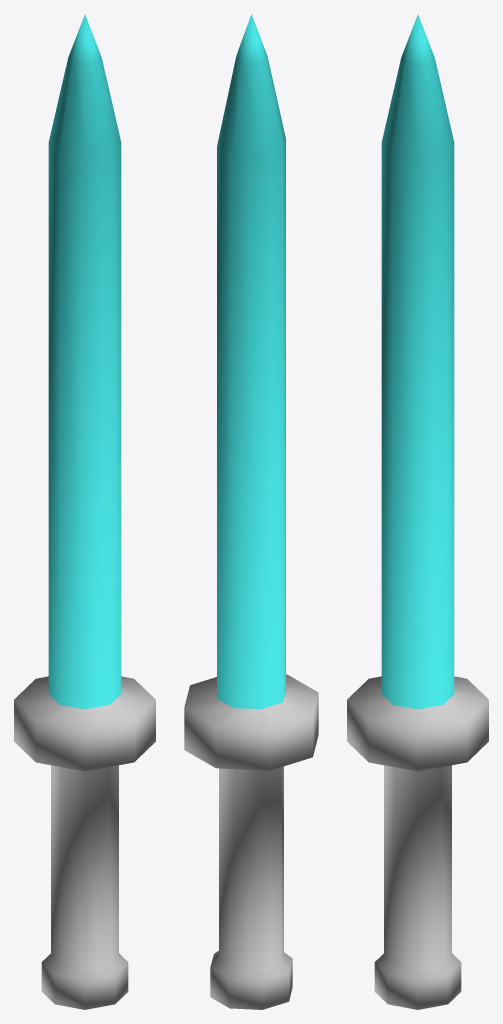
File: AlphaSword.obj
3 views of the same model, side by side, from view 1: azimuth 90°, elevation 25°; view 2: azimuth 150°, elevation 25°; view 3: azimuth 270°, elevation 25° (orthographic).
Visible parts, largest first — view 1: Cube.001; view 2: Cube.001; view 3: Cube.001.
Part boxes in pixels (x1,y1,x2,y2): Cube.001: [14, 14, 155, 1009]; Cube.001: [184, 14, 318, 1009]; Cube.001: [347, 14, 488, 1009].
Bounding box in the file's own units: 0.1409 × 1.07 × 0.1409.
